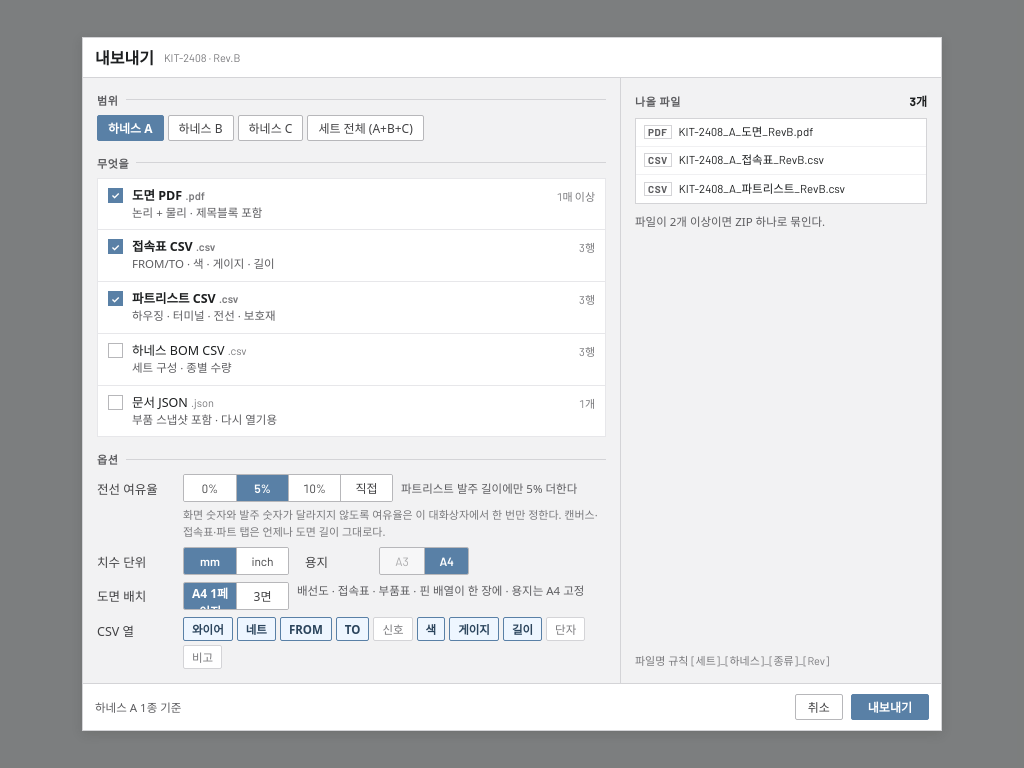
Scenario: 내보내기 대화상자 §6 › 파일이 2개 이상이면 ZIP 안내로 바뀐다
Expected: the text "파일이 2개 이상이면 ZIP 하나로 묶인다." is shown, [635,214,825,228]
Click the checkbox labelled "도면 PDF" at (352, 204), box [98,178,605,229]
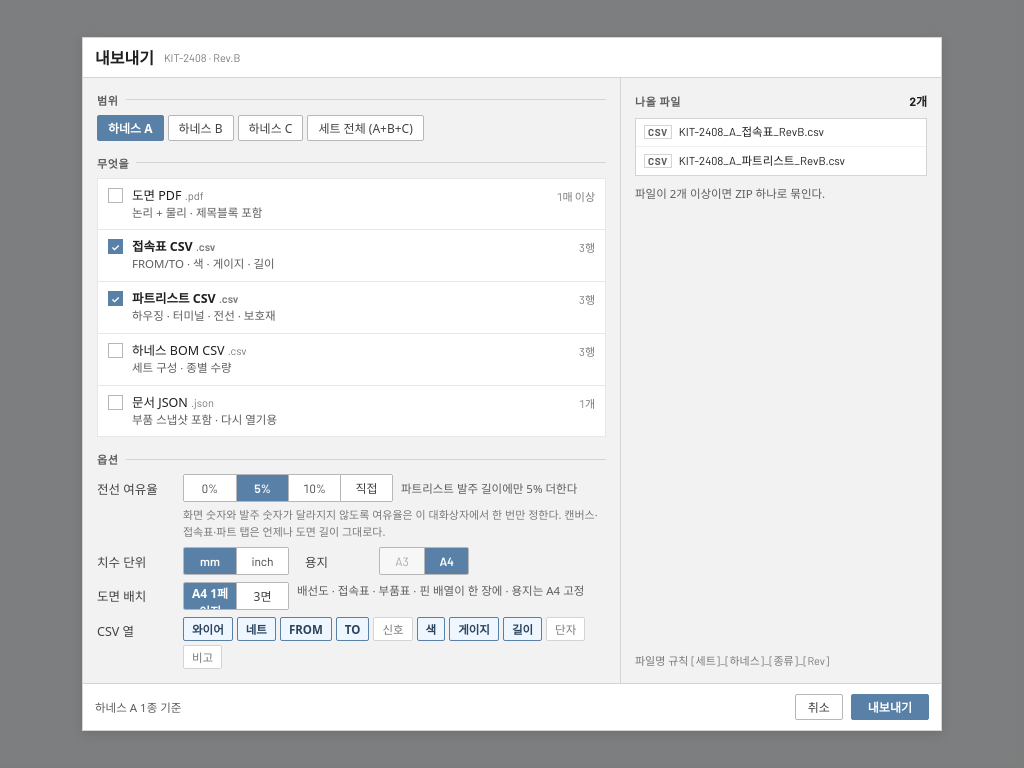
Click the checkbox labelled "파트리스트 CSV" at (352, 308), box [98,282,605,333]
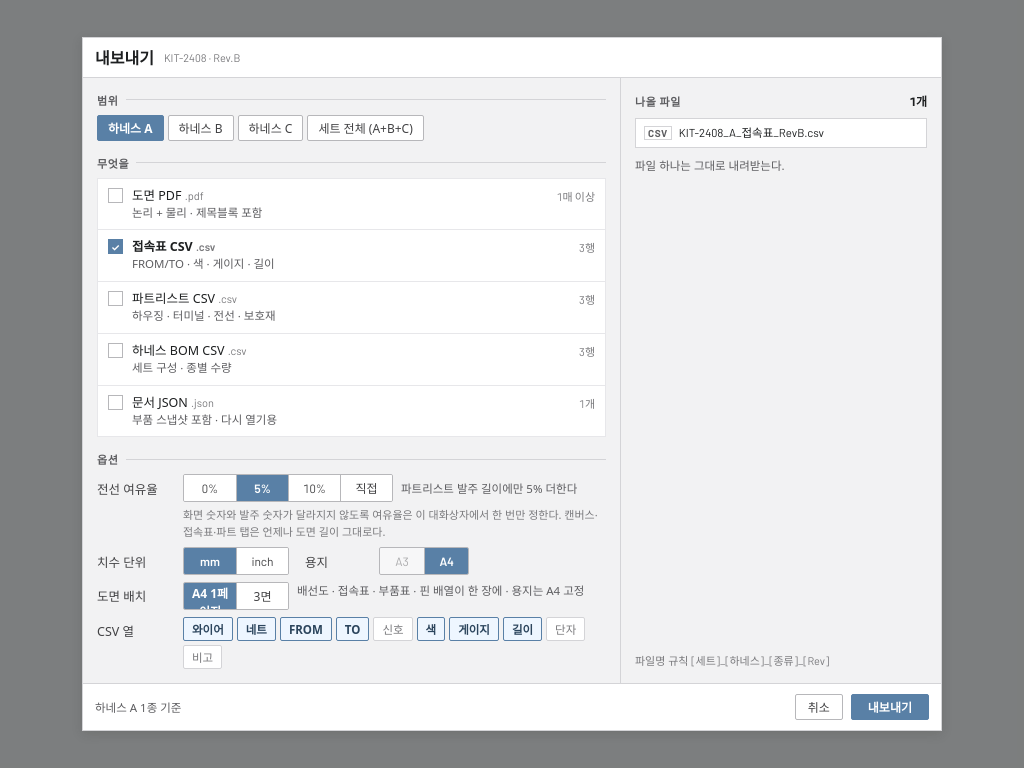
Expected: the text "파일 하나는 그대로 내려받는다." is shown, [635,158,785,172]
